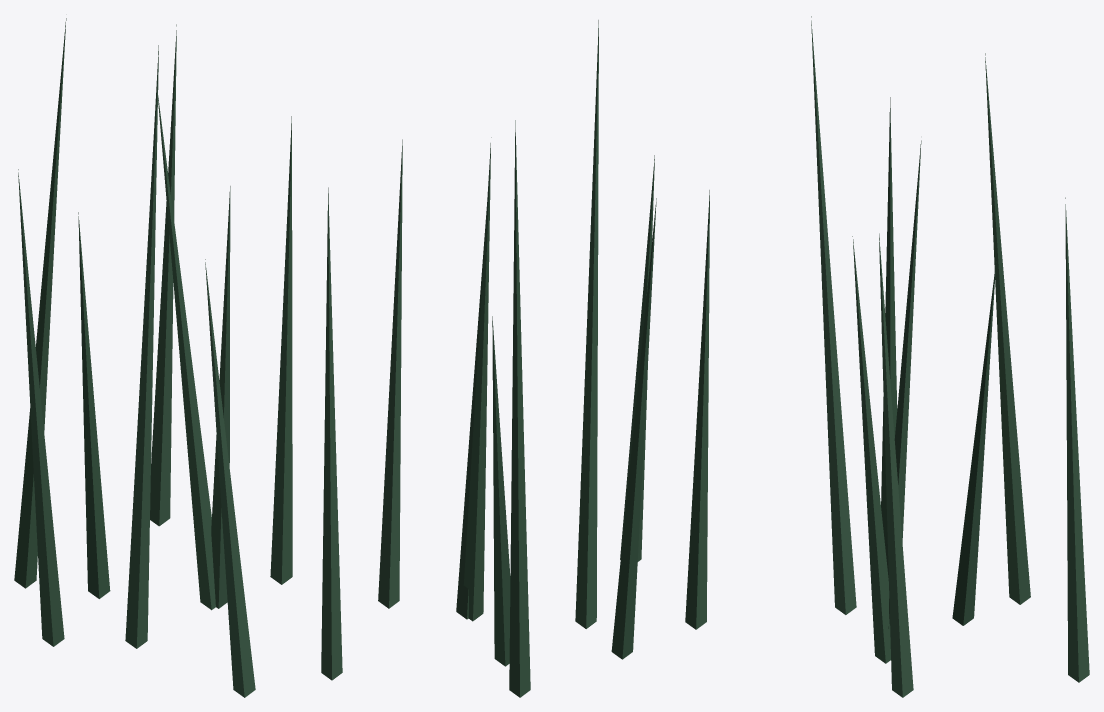
File: reeds.glb
3 views of the same model, side by side, from view 1: azimuth 30°, elevation 25°; view 2: azimuth 150°, elevation 25°; view 3: azimuth 270°, elevation 25° (orthographic). The views are drawn at different scales.
Visible parts, largest first — view 1: reeds; view 2: reeds; view 3: reeds.
Part boxes in pixels (<box>): reeds: <box>14,18,292,697</box>; reeds: <box>321,20,656,697</box>; reeds: <box>685,16,1089,697</box>.
Bounding box in the file's own units: 0.7596 × 1.59 × 0.9738.
Materials: 1 (1 with a texture image).
